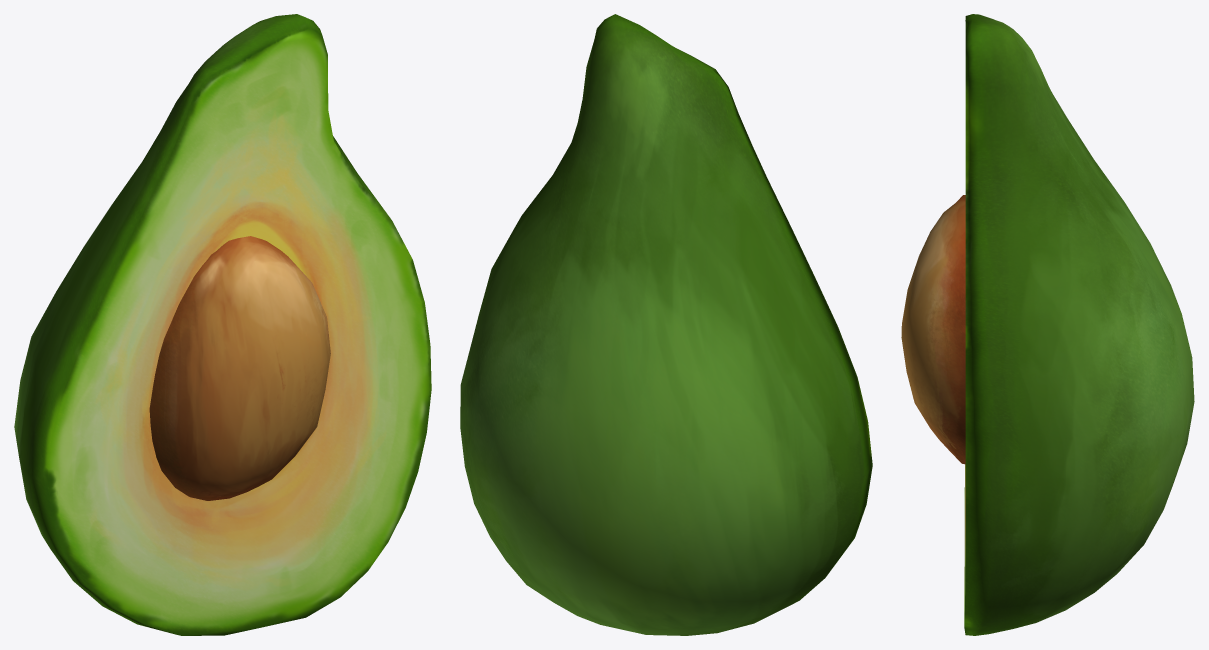
File: Avocado.obj
3 renders of one model, left to right at view 1: azimuth 30°, elevation 25°; view 2: azimuth 150°, elevation 25°; view 3: azimuth 270°, elevation 25°, orthographic. The views are drawn at different scales.
Parts seen in each view (by area): view 1: Avocado; view 2: Avocado; view 3: Avocado.
Boxes of the visible parts, x1,y1,x2,y2 form: Avocado: (14, 14, 431, 635); Avocado: (460, 14, 872, 635); Avocado: (901, 14, 1194, 635).
Size of the model in its own units: 0.0426 by 0.0629 by 0.0276.
1 material, 1 textured.
